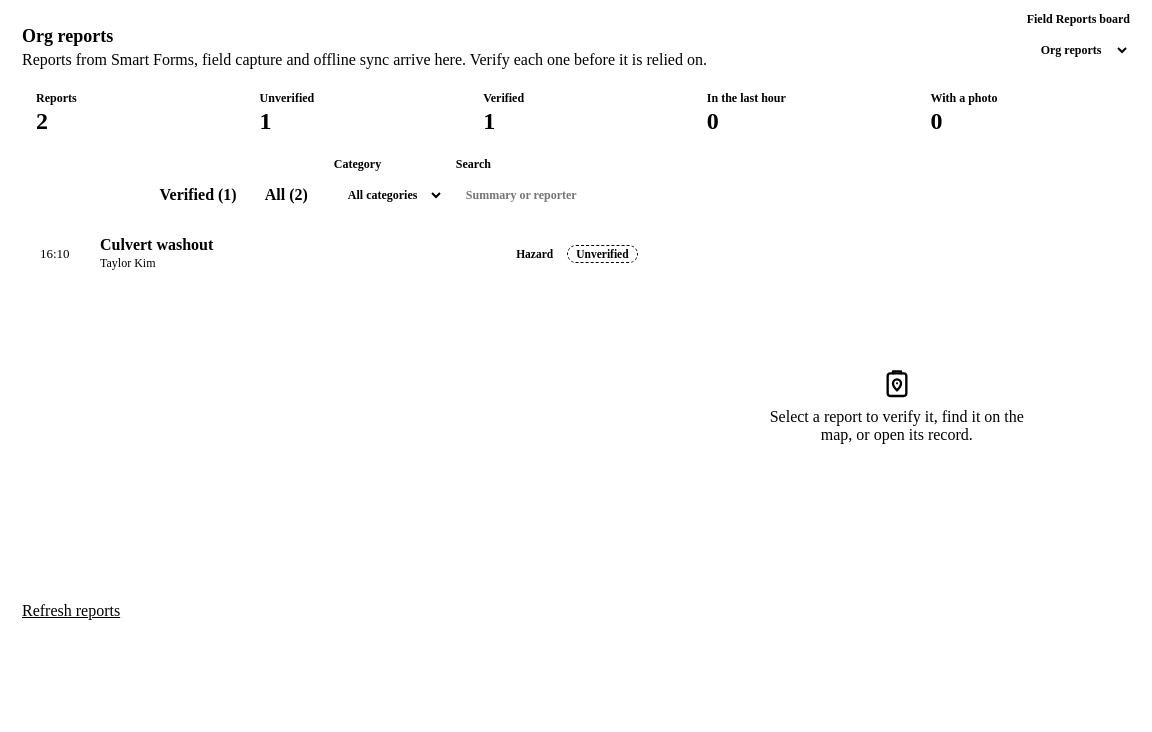
field reports surface › lists unverified reports first with their reporter, and verifies one
The image size is (1152, 732).
Click the button with aria-label "Report: Culvert washout" at (157, 244), box x1=22 y1=226 x2=652 y2=281
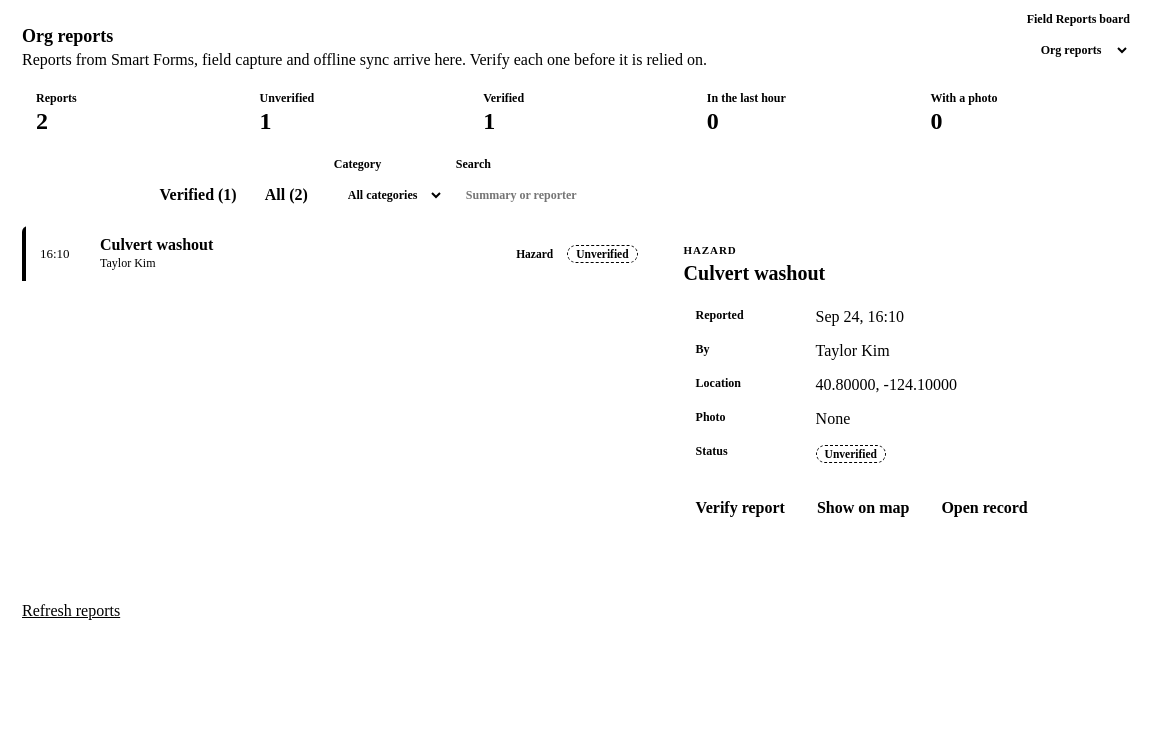
Click the button "Verify report" at (740, 508), box x1=684 y1=486 x2=797 y2=530
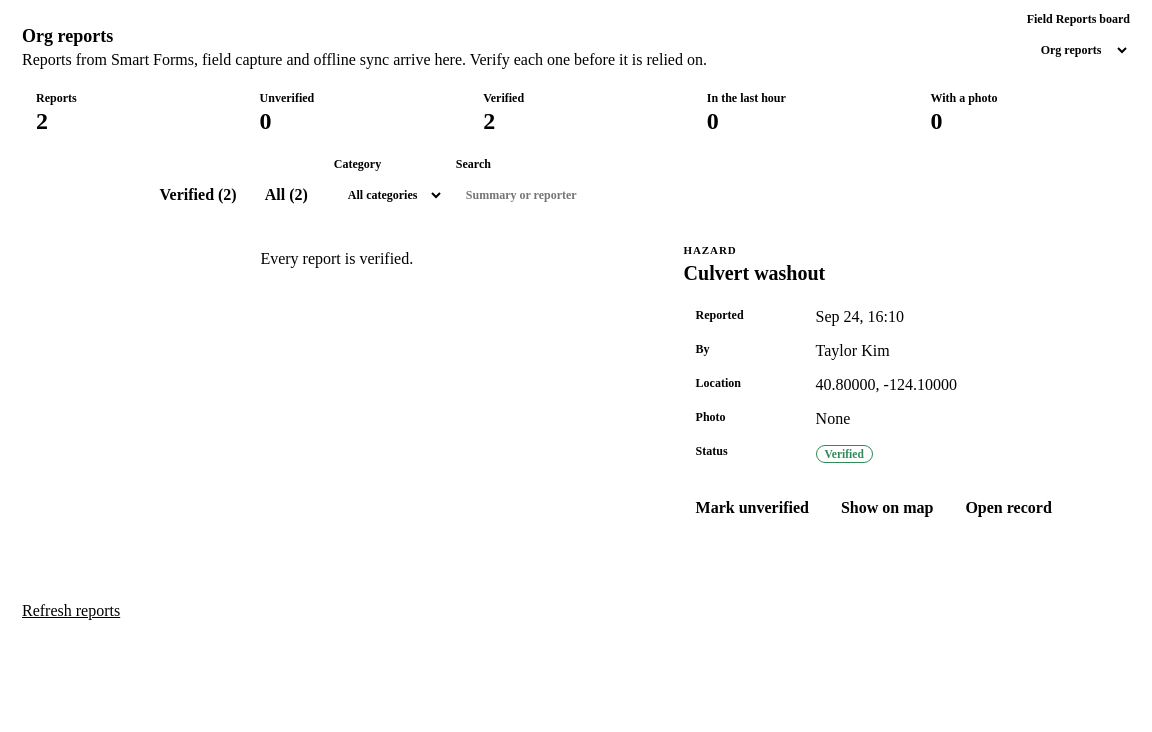
Check: the text "Every report is verified." is shown, box x1=260 y1=250 x2=413 y2=267
Click the button "All (2)" at (286, 195), box x1=251 y1=176 x2=322 y2=214
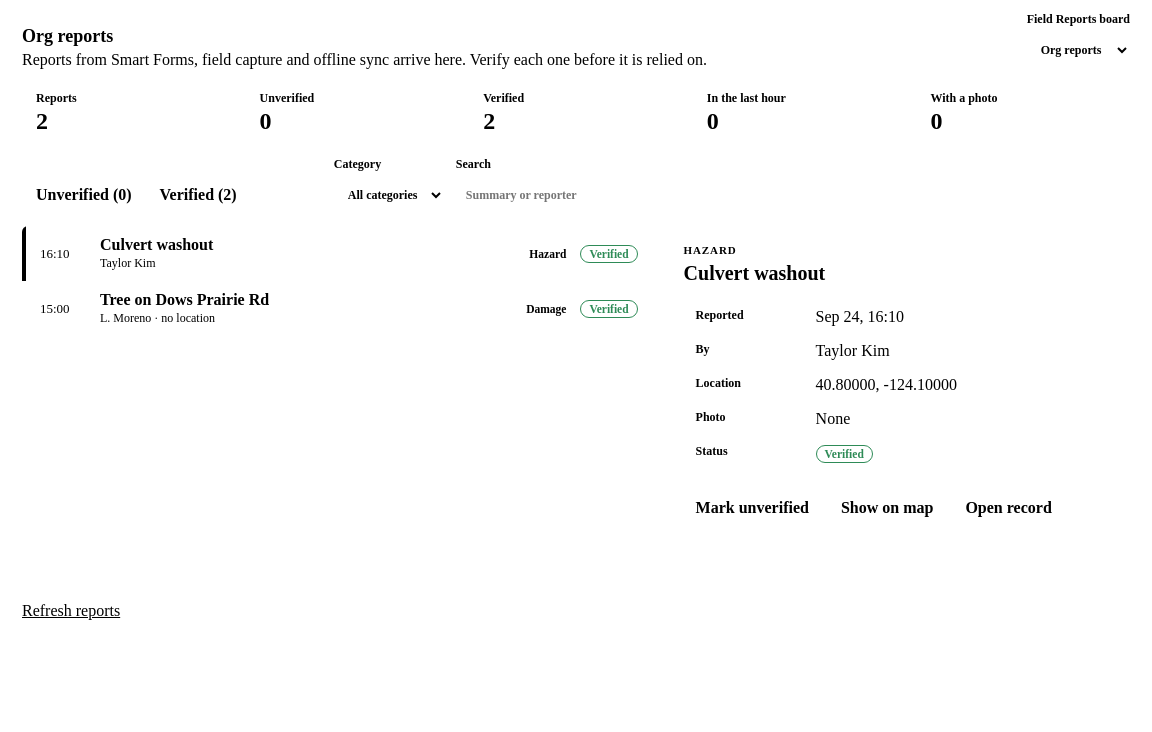
Check: the button with aria-label "Report: Tree on Dows Prairie Rd" is shown, box x1=22 y1=281 x2=652 y2=336
